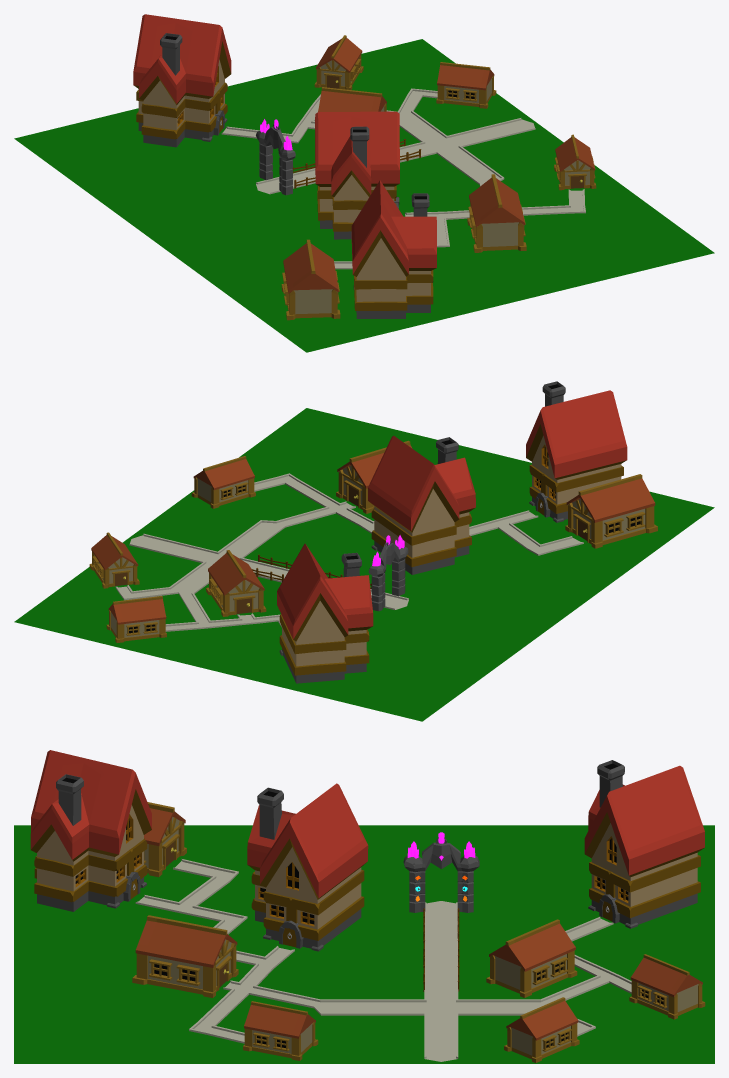
File: environment.fbx
3 renders of one model, top to bottom at view 1: azimuth 30°, elevation 25°; view 2: azimuth 150°, elevation 25°; view 3: azimuth 270°, elevation 25°, orthographic. The views are drawn at different scales.
Visible parts, largest first — view 1: floor, Cube.004, Cube.007, Cube.006, Cylinder, Cube.008, Cube.002, Cube.001, Cube.005, portal, Cube.003, Cube; view 2: floor, Cube.006, Cube.004, Cylinder, Cube.007, Cube.008, Cube, Cube.003, Cube.005, Cube.001, Cube.002, portal; view 3: floor, Cylinder, Cube.007, Cube.004, Cube.006, Cube.002, Cube, Cube.003, Cube.005, Cube.001, portal, Cube.008.
Boxes of the visible parts, x1=… form: floor: x1=14, y1=39, x2=714, y2=352; Cube.004: x1=133, y1=14, x2=231, y2=147; Cube.007: x1=351, y1=180, x2=436, y2=318; Cube.006: x1=315, y1=111, x2=399, y2=239; Cylinder: x1=221, y1=88, x2=585, y2=269; Cube.008: x1=281, y1=239, x2=340, y2=320; Cube.002: x1=467, y1=174, x2=526, y2=252; Cube.001: x1=436, y1=62, x2=496, y2=108; Cube.005: x1=314, y1=35, x2=363, y2=89; portal: x1=256, y1=119, x2=295, y2=195; Cube.003: x1=554, y1=134, x2=596, y2=190; Cube: x1=318, y1=87, x2=386, y2=111; floor: x1=14, y1=408, x2=714, y2=721; Cube.006: x1=368, y1=435, x2=475, y2=574; Cube.004: x1=277, y1=543, x2=373, y2=683; Cylinder: x1=115, y1=473, x2=583, y2=631; Cube.007: x1=526, y1=381, x2=627, y2=522; Cube.008: x1=565, y1=474, x2=657, y2=548; Cube: x1=206, y1=550, x2=266, y2=616; Cube.003: x1=191, y1=456, x2=255, y2=508; Cube.005: x1=106, y1=596, x2=166, y2=642; Cube.001: x1=89, y1=532, x2=139, y2=588; Cube.002: x1=336, y1=440, x2=412, y2=513; portal: x1=368, y1=535, x2=408, y2=611; floor: x1=14, y1=825, x2=714, y2=1063; Cylinder: x1=135, y1=859, x2=631, y2=1061; Cube.007: x1=30, y1=750, x2=151, y2=911; Cube.004: x1=584, y1=760, x2=704, y2=928; Cube.006: x1=247, y1=783, x2=368, y2=951; Cube.002: x1=132, y1=915, x2=238, y2=997; Cube: x1=486, y1=919, x2=577, y2=997; Cube.003: x1=243, y1=1001, x2=318, y2=1060; Cube.005: x1=629, y1=954, x2=705, y2=1019; Cube.001: x1=504, y1=997, x2=579, y2=1062; portal: x1=403, y1=832, x2=479, y2=912; Cube.008: x1=144, y1=802, x2=186, y2=877.
Size of the model in its own units: 6562 by 1649 by 8143.
